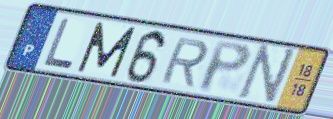6: (124, 28, 169, 86)
L: (41, 16, 76, 71)
M: (74, 20, 139, 79)
N: (234, 43, 299, 108)
P: (196, 39, 253, 95)
R: (158, 36, 212, 89)
